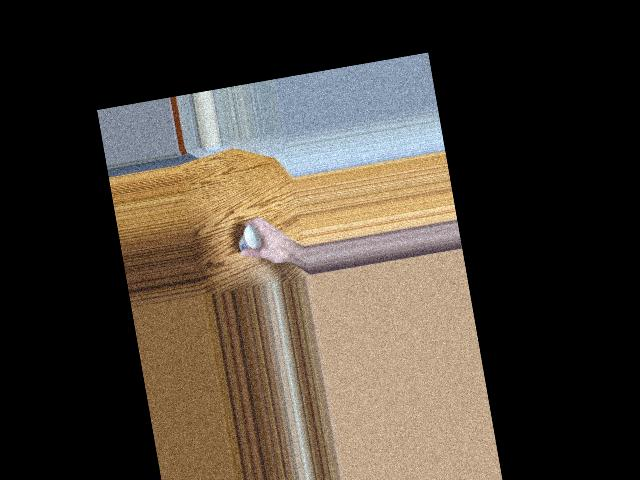cotage: (236, 223, 266, 259)
